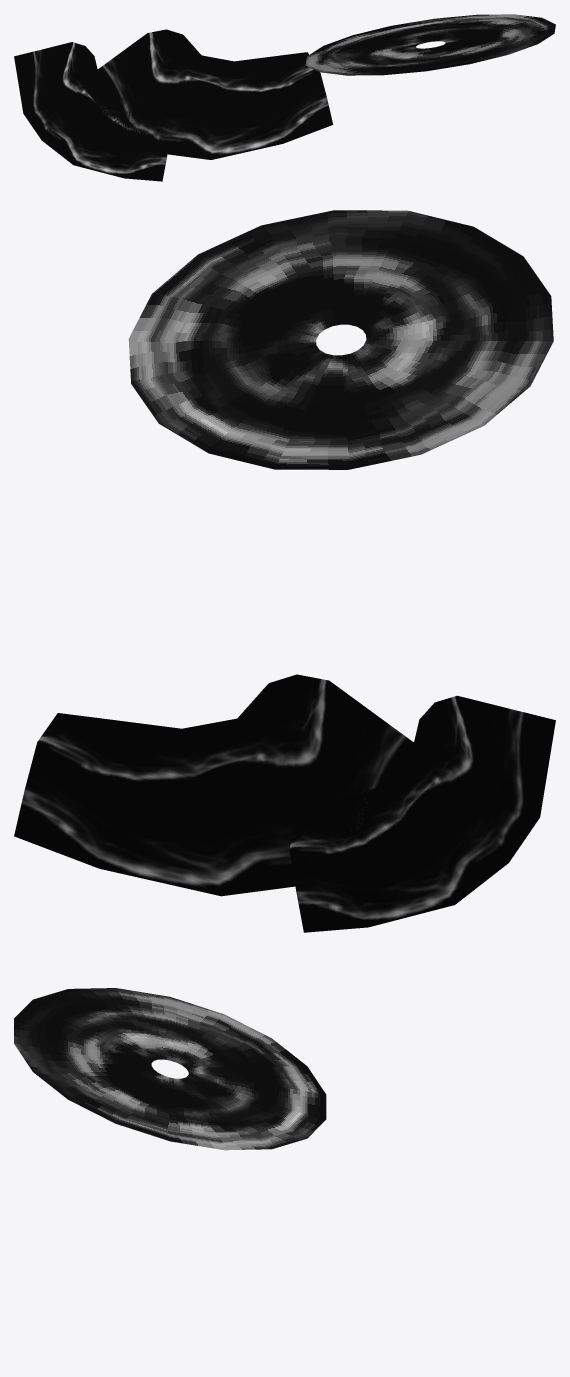
The model's file is RumStorageDlg.fbx.
The picture shows the model from 3 angles, top to bottom: view 1: azimuth 30°, elevation 25°; view 2: azimuth 150°, elevation 25°; view 3: azimuth 270°, elevation 25°; orthographic projection. The views are drawn at different scales.
Visible parts, largest first — view 1: Cup_Wave_Over03, Cup_Wave_Over02, Cup_Wave; view 2: Cup_Wave, Cup_Wave_Over03, Cup_Wave_Over02; view 3: Cup_Wave.
Boxes of the visible parts, x1,y1,x2,y2 form: Cup_Wave_Over03: (80,29,333,159); Cup_Wave_Over02: (14,42,169,181); Cup_Wave: (305,14,555,75); Cup_Wave: (128,210,553,469); Cup_Wave_Over03: (14,674,442,896); Cup_Wave_Over02: (289,695,555,932); Cup_Wave: (14,988,326,1150).
Bounding box in the file's own units: 196 × 118 × 180.
2 materials, 2 textured.
